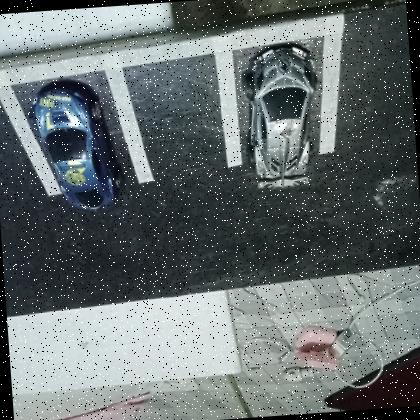Car: (32, 79, 121, 210), (249, 44, 317, 186)
